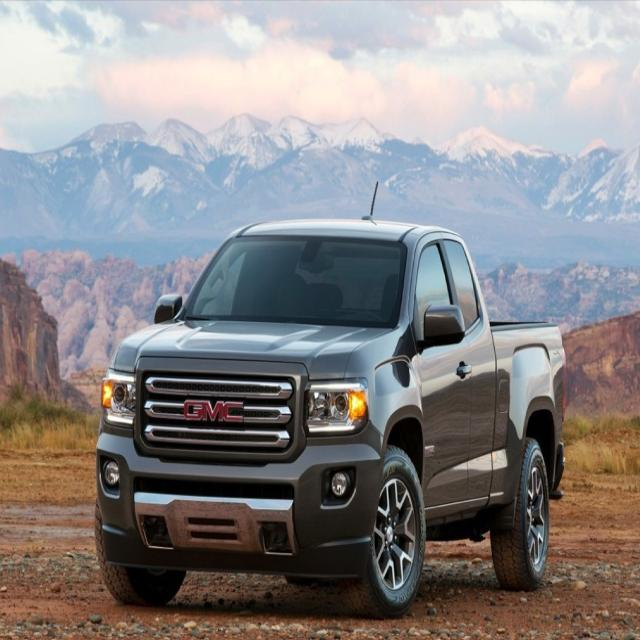back_left_side_light: (561, 345, 566, 420)
front_bumper: (95, 430, 384, 578)
front_glass: (183, 234, 409, 325)
front_left_side_door: (407, 230, 473, 510)
front_left_side_light: (302, 375, 372, 440)
front_left_side_mirror: (417, 302, 466, 350)
front_right_side_light: (100, 366, 136, 428)
front_right_side_mirror: (154, 293, 182, 325)
wheel: (341, 446, 426, 615), (96, 500, 185, 606), (489, 440, 551, 591)
